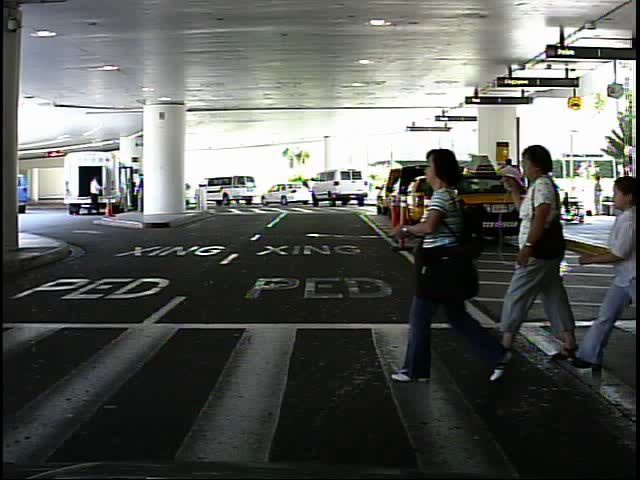person: (498, 133, 599, 376), (405, 134, 499, 391), (87, 170, 105, 220), (588, 172, 607, 218)
